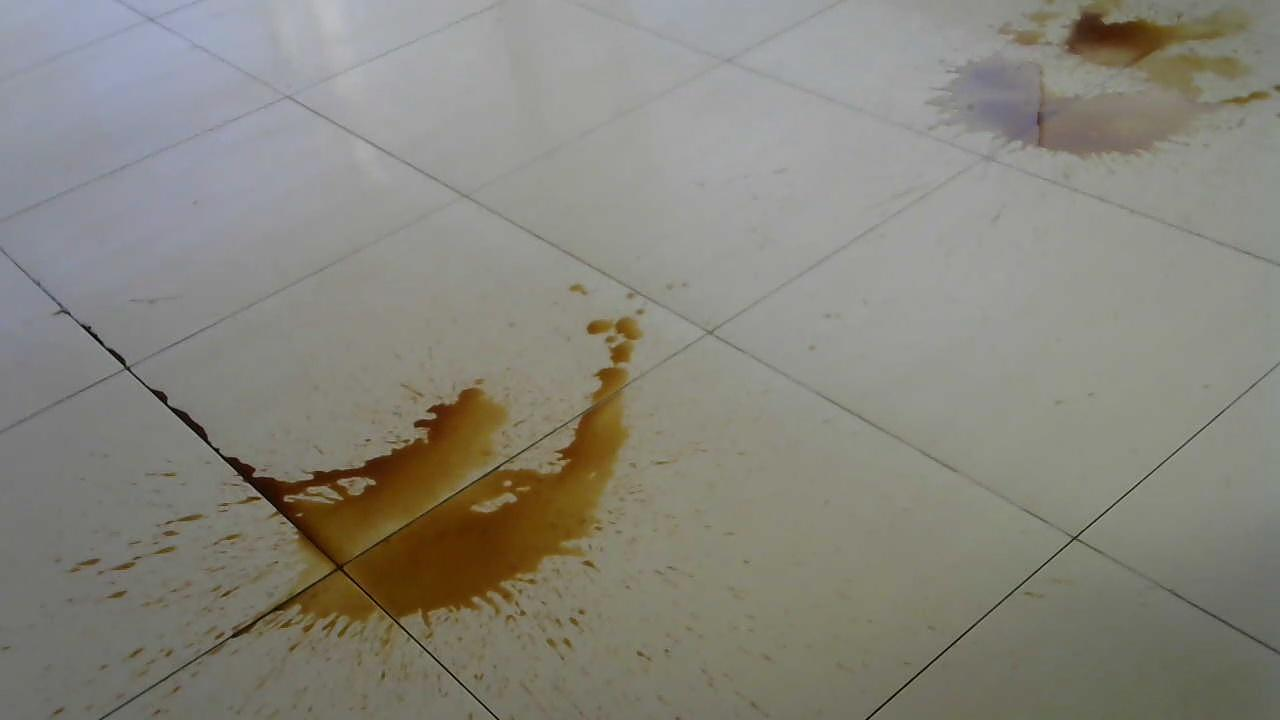dirty_floor: (209, 304, 692, 657), (911, 12, 1273, 160)
